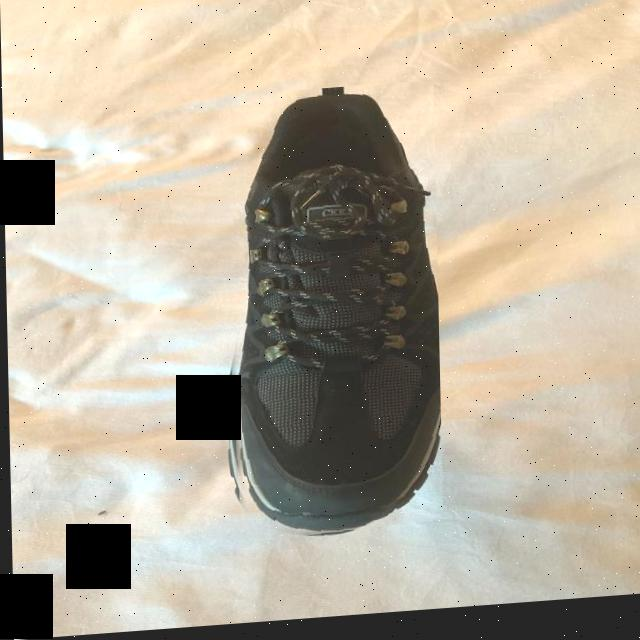shoe: (215, 87, 441, 548)
